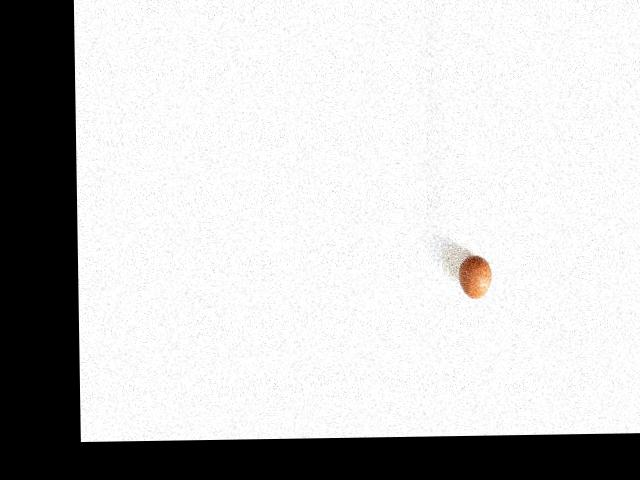egg: (459, 255, 491, 299)
